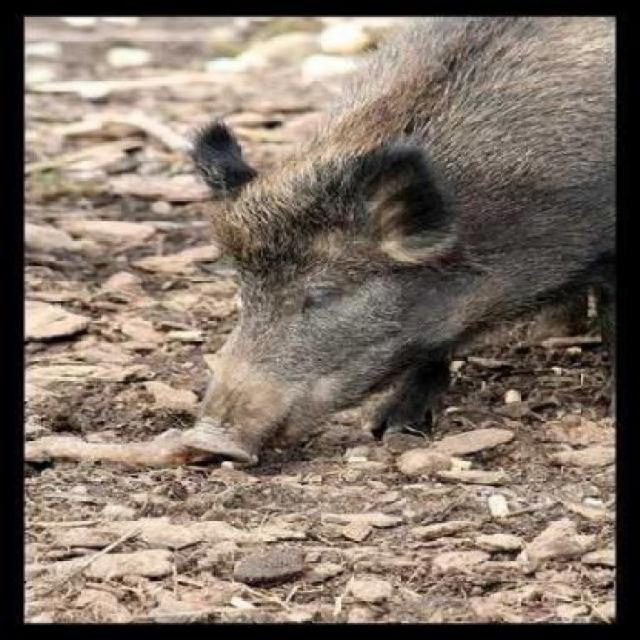pig: (220, 18, 638, 504)
